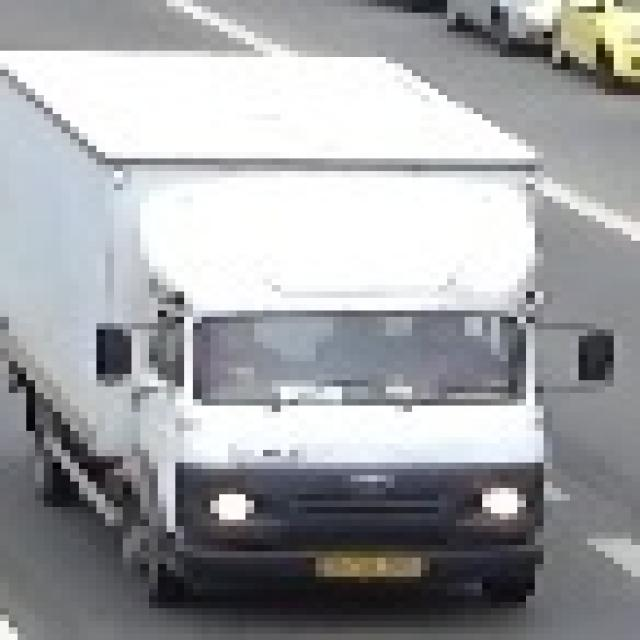Truck: (0, 44, 605, 634)
